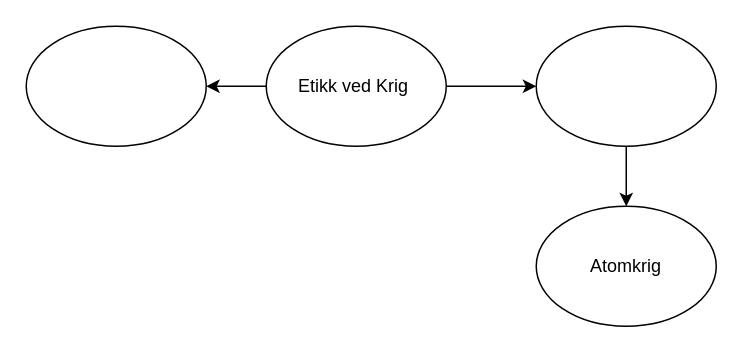
This 743x353 diagram has some shape labels left out. The shapes that lost their labels are listed below. From the top down, each one's centre as x and y in pixels, then its label:
At point (115, 85): "Personer".
At point (625, 85): "Metoder".
